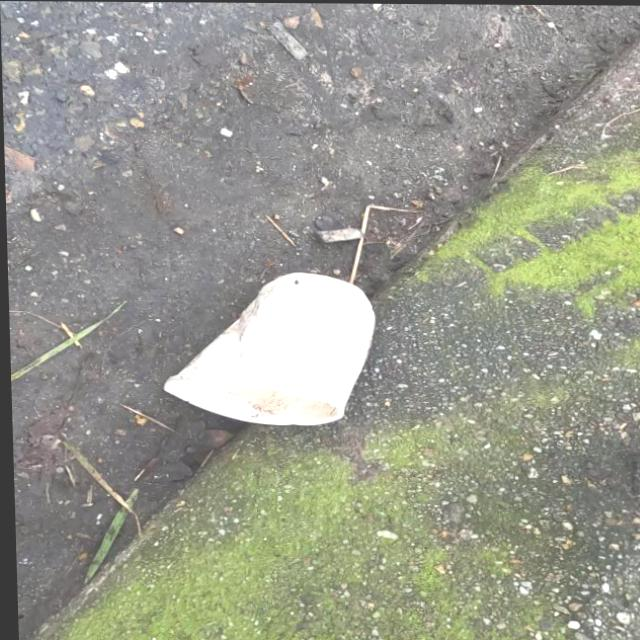Cup: (154, 268, 381, 430)
